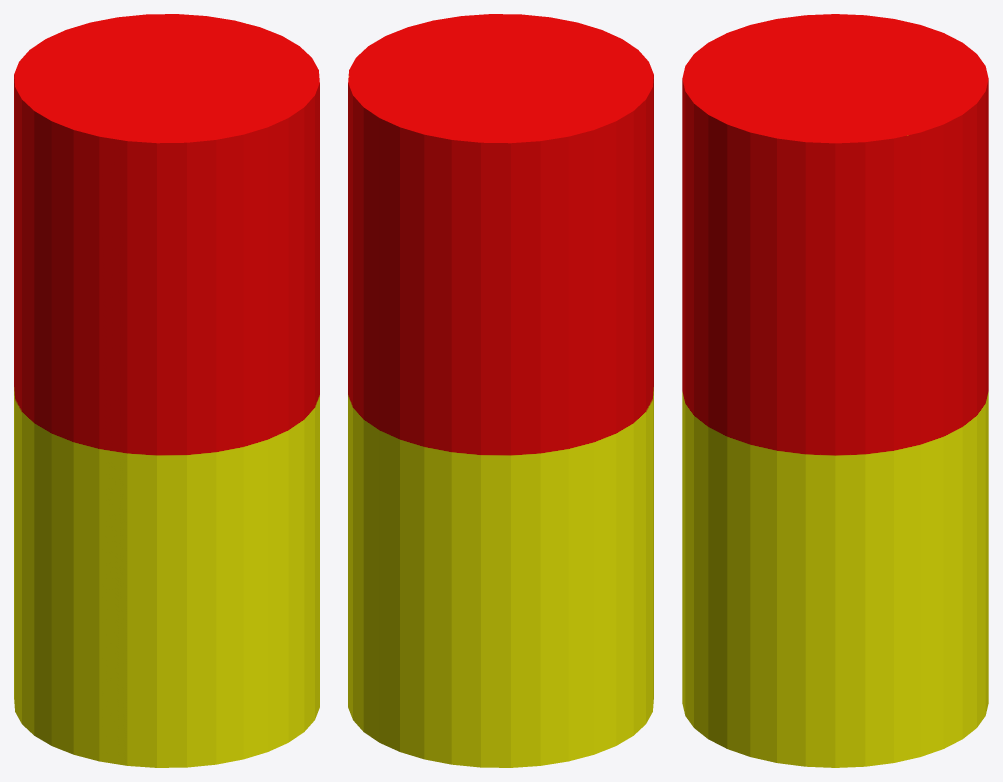
Rendered from beacon1.obj.
3 views of the same model, side by side, from view 1: azimuth 30°, elevation 25°; view 2: azimuth 150°, elevation 25°; view 3: azimuth 270°, elevation 25° (orthographic).
Parts seen in each view (by area): view 1: beacon1; view 2: beacon1; view 3: beacon1.
Boxes of the visible parts, x1,y1,x2,y2 form: beacon1: (14,14,319,767); beacon1: (348,14,653,767); beacon1: (682,14,988,767).
Size of the model in its own units: 0.2 by 0.45 by 0.2.
Materials: 1 (1 with a texture image).
